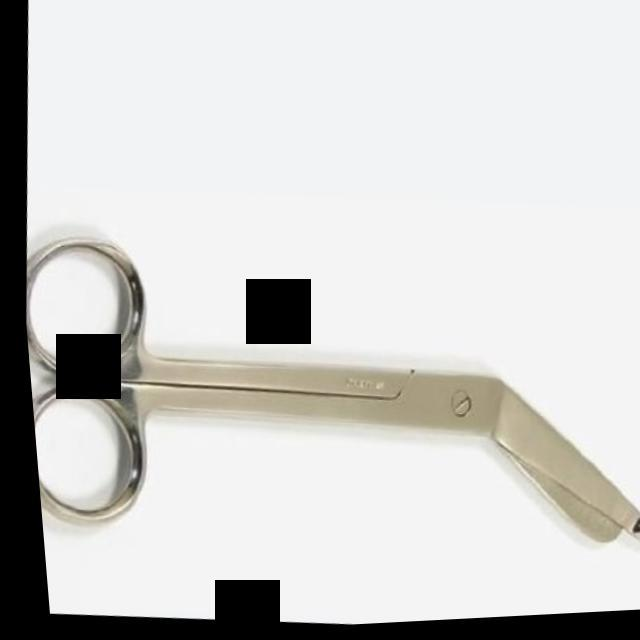Bandage Sciccors: (15, 203, 640, 589)
